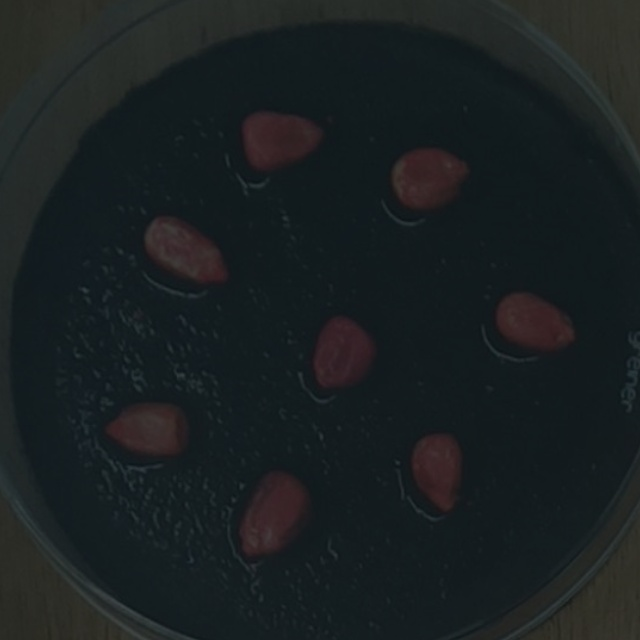Zea mays: (229, 460, 322, 564), (135, 204, 240, 292), (379, 135, 479, 222), (485, 281, 587, 364), (231, 99, 334, 180), (95, 391, 198, 466), (304, 304, 385, 399), (403, 420, 471, 520)
